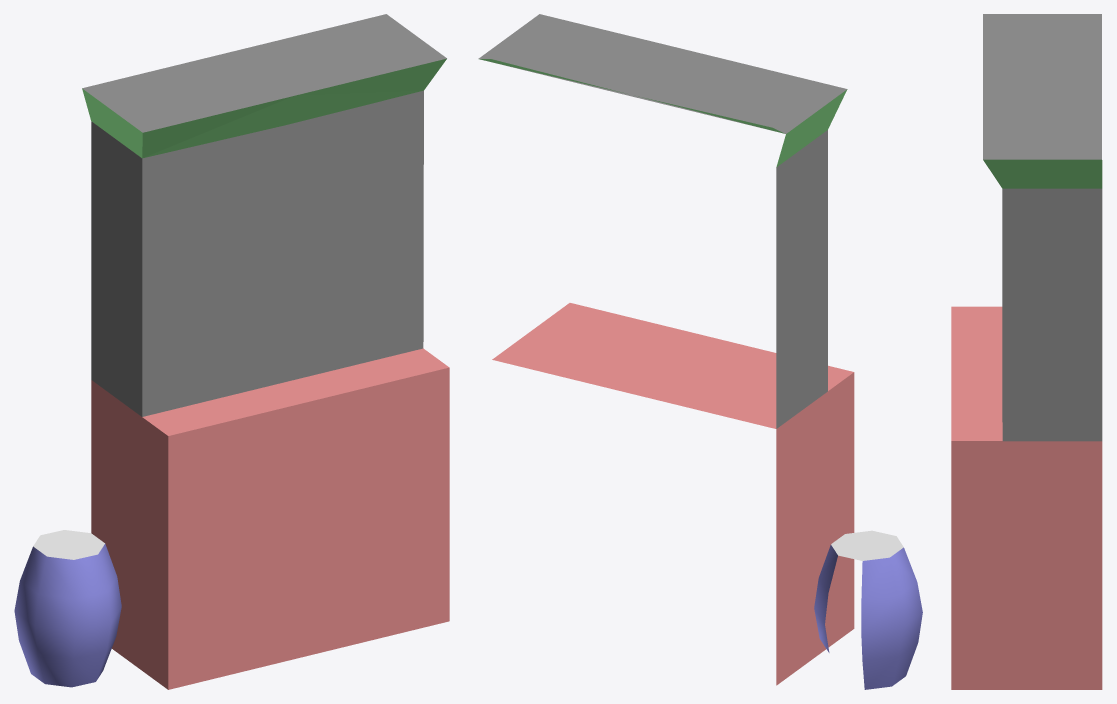
File: interior_Aa_s__booxx4.gltf
3 views of the same model, side by side, from view 1: azimuth 30°, elevation 25°; view 2: azimuth 150°, elevation 25°; view 3: azimuth 270°, elevation 25° (orthographic). The views are drawn at different scales.
Parts seen in each view (by area): view 1: booxx4; view 2: booxx4; view 3: booxx4.
Boxes of the visible parts, bbox=[...] form: booxx4: bbox=[14, 14, 449, 689]; booxx4: bbox=[478, 14, 922, 689]; booxx4: bbox=[951, 14, 1102, 689].
Bounding box in the file's own units: 0.8484 × 1.13 × 0.2864.
